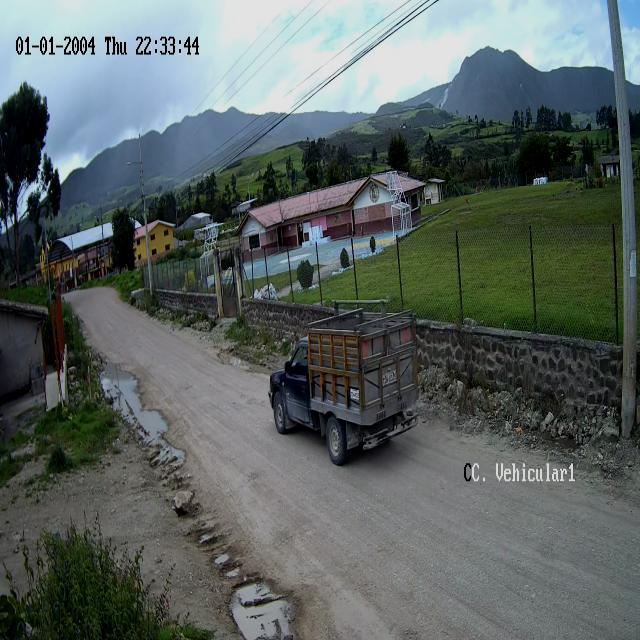CMT: (269, 310, 419, 467)
